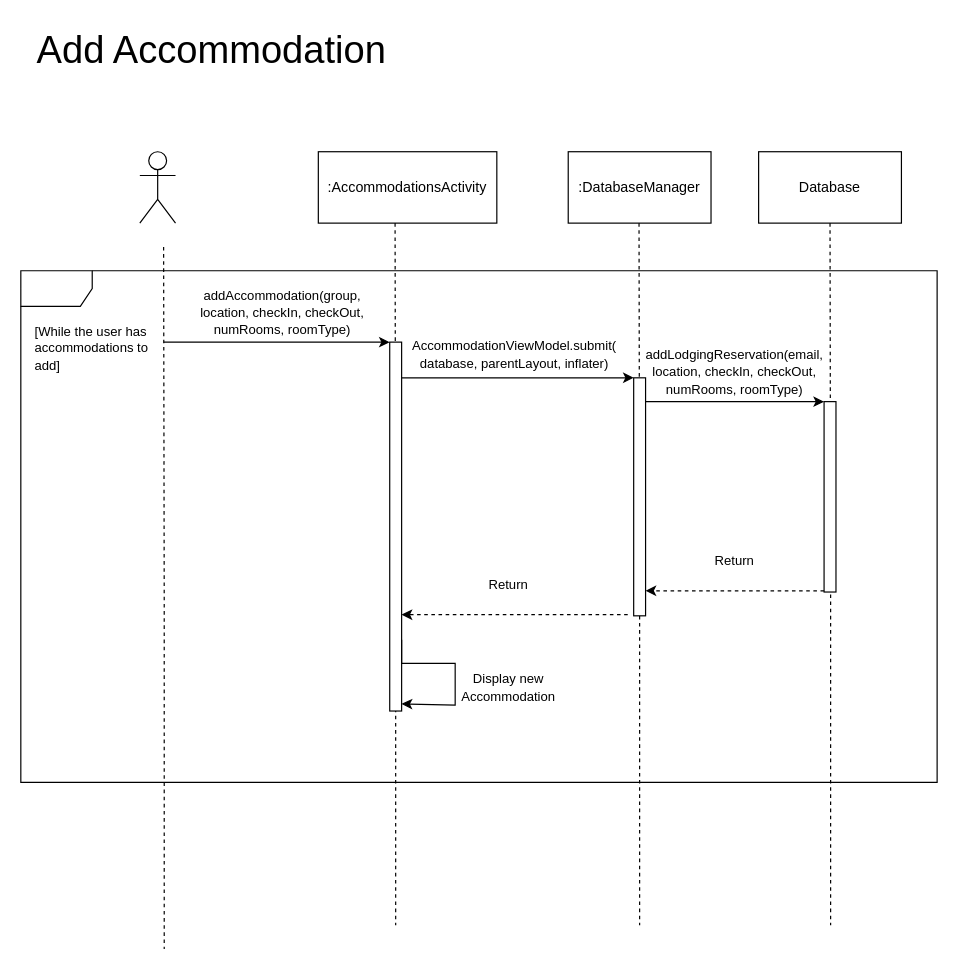
Image size: 958x971. Some labels were removed from this diagram. The box of each missing label's shape, as (x1, y1, x2, y2) in pixels:
:User: (139, 151, 176, 223)
loop: (20, 270, 937, 782)
